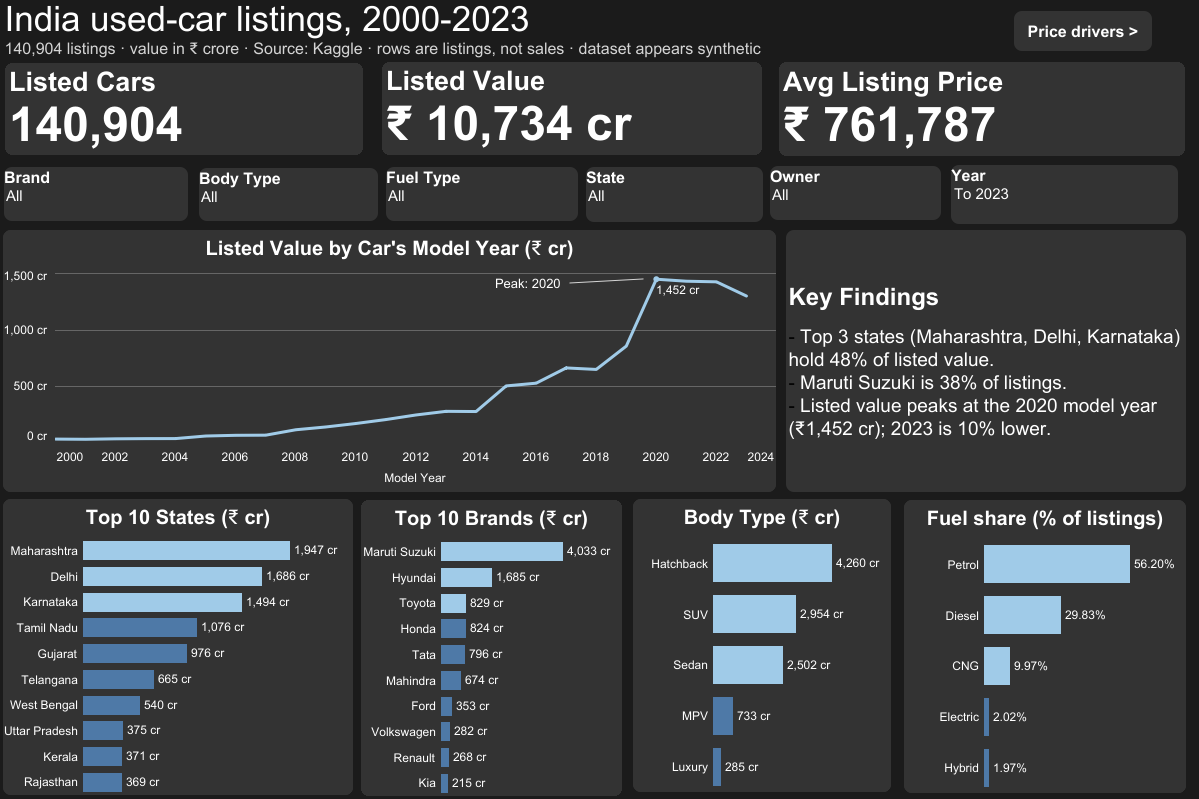

This screenshot's page, from the dashboard's own definition file:
{"tool":"tableau","page":{"name":"Overview","canvas":[1200,800],"ordinal":0},"visuals":[{"type":"dashboard-object","box":[1014,11,138,40]},{"type":"worksheet","title":"KPI Value","mark":"Automatic","box":[382,62,380,93]},{"type":"worksheet","title":"KPI Avg Price","mark":"Automatic","box":[779,62,406,94]},{"type":"worksheet","title":"KPI Listings","mark":"Automatic","box":[5,63,358,92]},{"type":"filter","title":"Brand Value","param":"[federated.1wd65dm1nnz40j1ah6su61hf7s7d].[none:Year:qk]","box":[951,165,227,59]},{"type":"filter","title":"Brand Value","param":"[federated.1wd65dm1nnz40j1ah6su61hf7s7d].[none:Owner:nk]","box":[770,166,171,54]},{"type":"filter","title":"Brand Value","param":"[federated.1wd65dm1nnz40j1ah6su61hf7s7d].[none:Brand:nk]","box":[4,167,184,54]},{"type":"filter","title":"Brand Value","param":"[federated.1wd65dm1nnz40j1ah6su61hf7s7d].[none:Fuel Type:nk]","box":[386,167,192,54]},{"type":"filter","title":"Brand Value","param":"[federated.1wd65dm1nnz40j1ah6su61hf7s7d].[none:State:nk]","box":[586,167,177,55]},{"type":"filter","title":"Brand Value","param":"[federated.1wd65dm1nnz40j1ah6su61hf7s7d].[none:Car Type:nk]","box":[199,168,179,53]},{"type":"worksheet","title":"Value by Model Year","mark":"Line","rows":["Price Cr"],"cols":["Year"],"box":[3,230,773,262]},{"type":"text","box":[786,230,400,262]},{"type":"worksheet","title":"Top 10 States","mark":"Automatic","rows":["State"],"cols":["Price Cr"],"box":[3,499,350,296]},{"type":"worksheet","title":"Body Type","mark":"Automatic","rows":["Car Type"],"cols":["Price Cr"],"box":[633,499,258,293]},{"type":"worksheet","title":"Brand Value","mark":"Automatic","rows":["Brand"],"cols":["Price Cr"],"box":[361,500,261,296]},{"type":"worksheet","title":"Fuel Share","mark":"Automatic","rows":["Fuel Type"],"cols":["Calculation_984599531316269056"],"box":[904,500,282,293]}]}

Visuals, with their boxes in screenshot pixels (x1, y1, x2, y2), scaled from the page's 1200x800 canvas onto the 1199x799 screenshot:
dashboard-object: Rect(1013, 11, 1151, 51)
"KPI Value" worksheet: Rect(382, 62, 761, 155)
"KPI Avg Price" worksheet: Rect(778, 62, 1184, 156)
"KPI Listings" worksheet: Rect(5, 63, 363, 155)
"Brand Value" filter: Rect(950, 165, 1177, 224)
"Brand Value" filter: Rect(769, 166, 940, 220)
"Brand Value" filter: Rect(4, 167, 188, 221)
"Brand Value" filter: Rect(386, 167, 578, 221)
"Brand Value" filter: Rect(586, 167, 762, 222)
"Brand Value" filter: Rect(199, 168, 378, 221)
"Value by Model Year" worksheet (Line marks): Rect(3, 230, 775, 491)
text: Rect(785, 230, 1185, 491)
"Top 10 States" worksheet: Rect(3, 498, 353, 794)
"Body Type" worksheet: Rect(632, 498, 890, 791)
"Brand Value" worksheet: Rect(361, 499, 621, 795)
"Fuel Share" worksheet: Rect(903, 499, 1185, 792)
